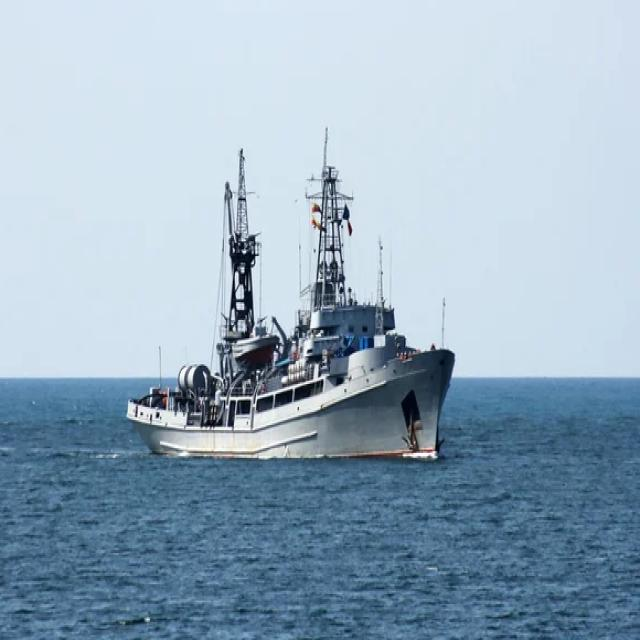navalvessels: (129, 151, 469, 475)
